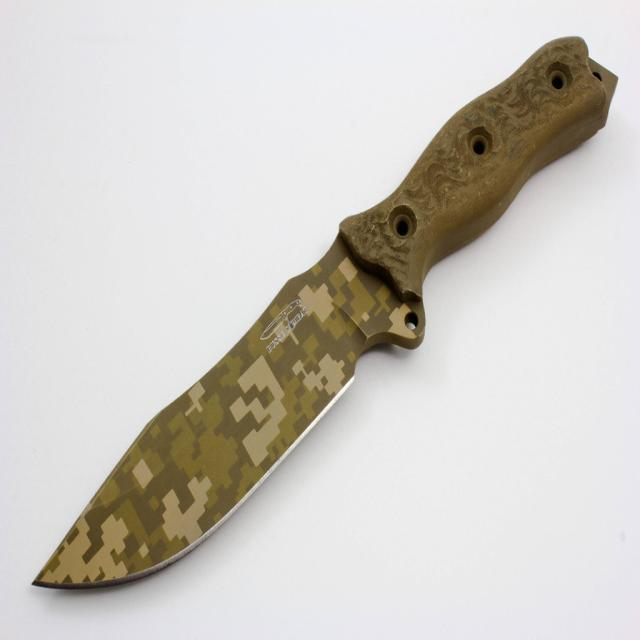Knife: (35, 38, 618, 588)
